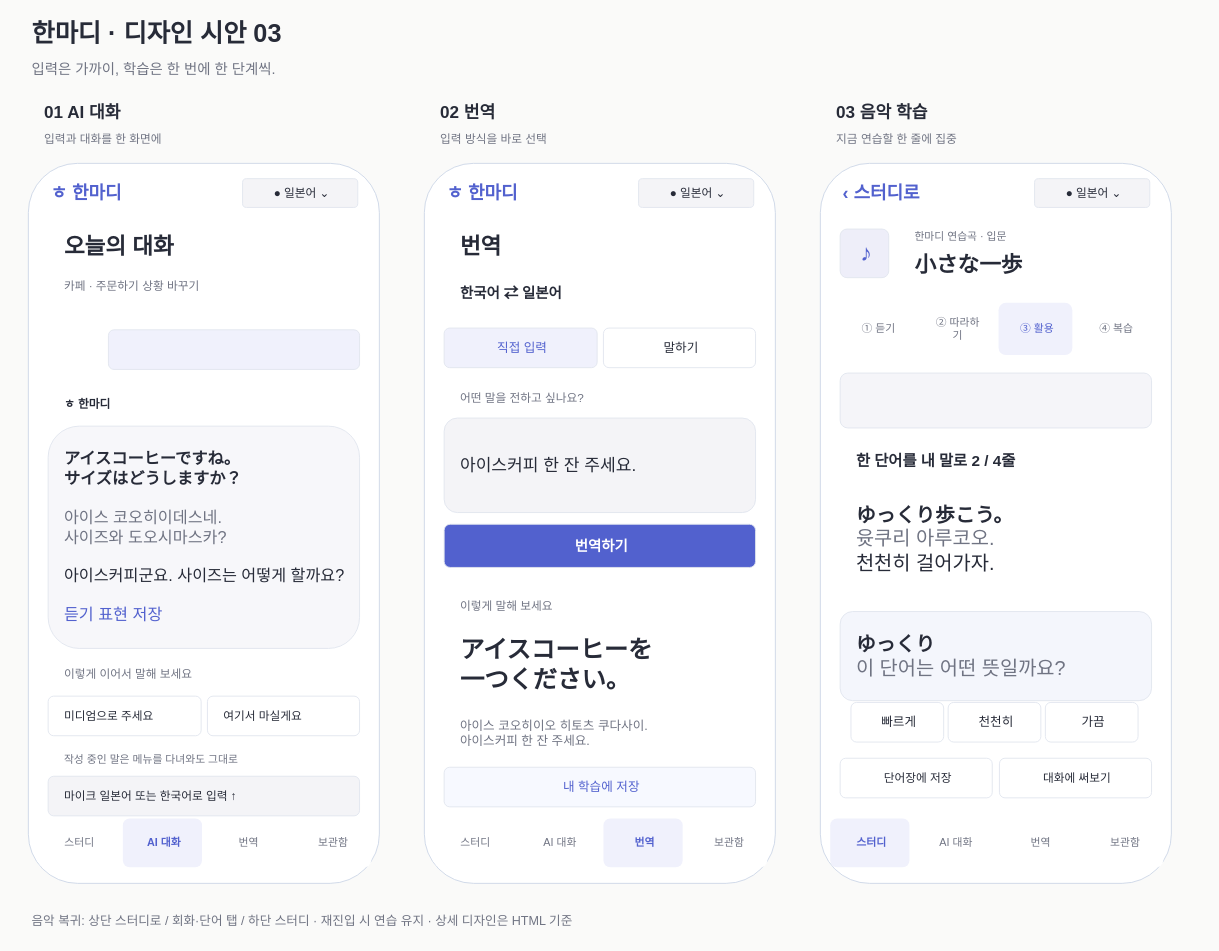
Some shapes in this 1219 by 951 pixel diagram are drawn without their labels. Here are the shapes that lost their labels. From the top down, the centre of each, then its label:
At point 234,349: "아이스커피를 주문하고 싶어요.".
At point 995,400: "▶ 이 줄 반복 듣기 ━━━━━ 전체 가사".
